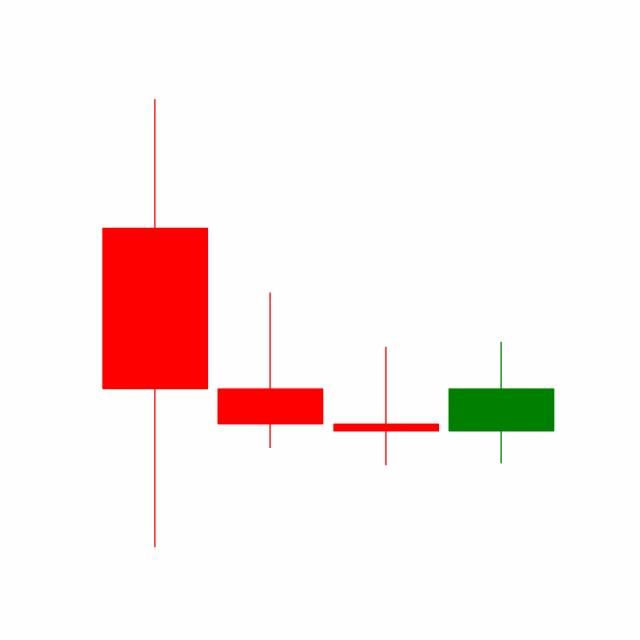Spinning Top: (328, 344, 444, 466)
